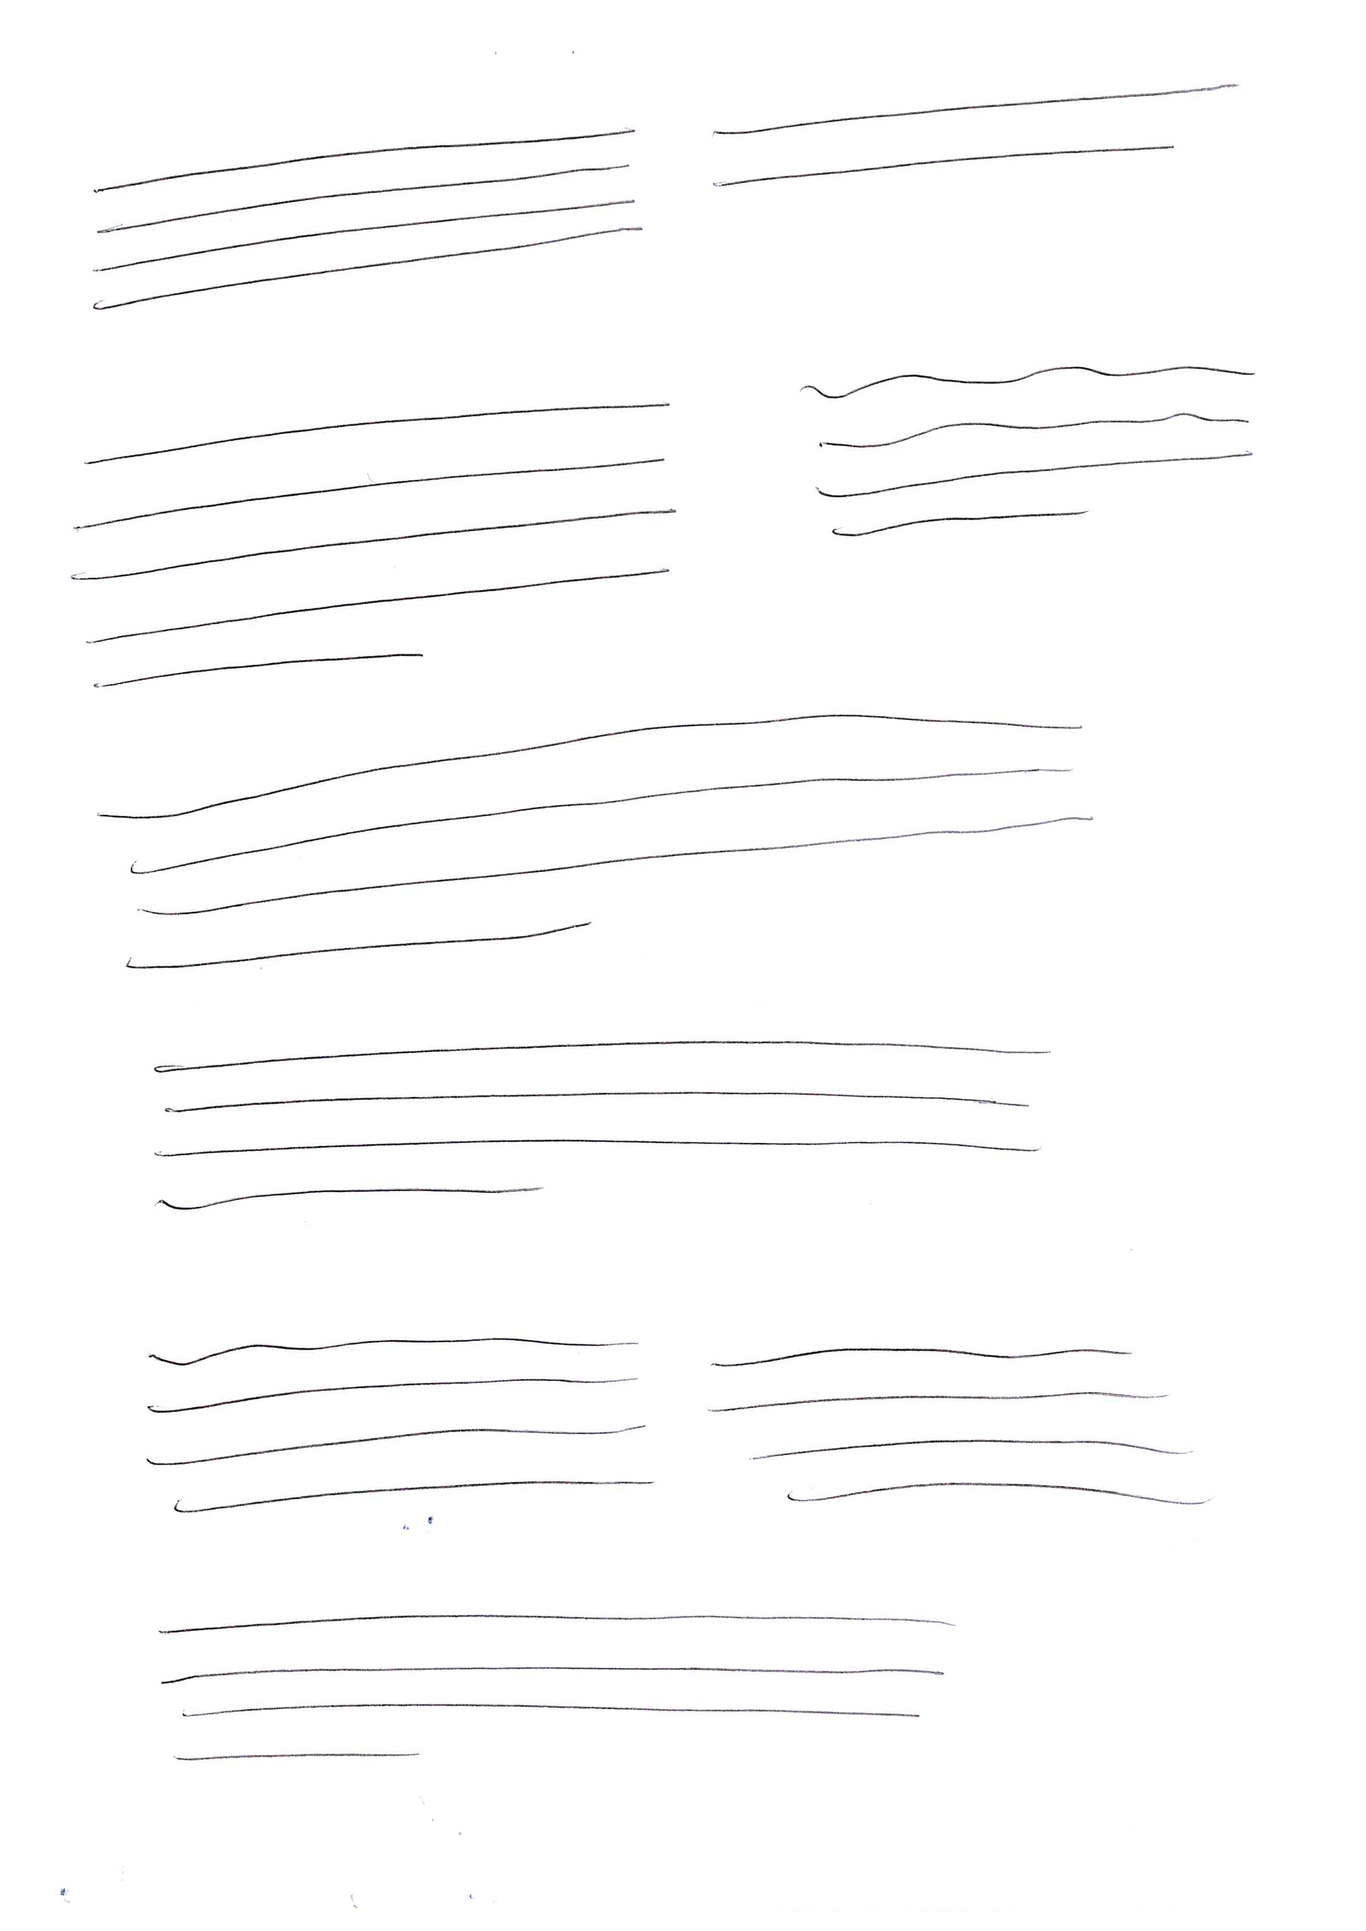Paragraph: (98, 713, 1098, 974), (69, 398, 677, 690), (152, 1036, 1053, 1215), (152, 1612, 954, 1764), (84, 123, 643, 313), (136, 1334, 659, 1517), (707, 1344, 1206, 1510), (806, 364, 1257, 543), (707, 80, 1236, 197)
